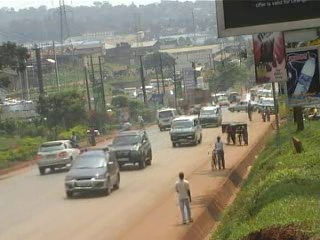Car: (64, 146, 122, 201), (104, 128, 154, 168), (34, 136, 81, 176), (227, 97, 260, 113), (238, 90, 254, 104), (228, 90, 240, 104), (216, 95, 228, 107)
